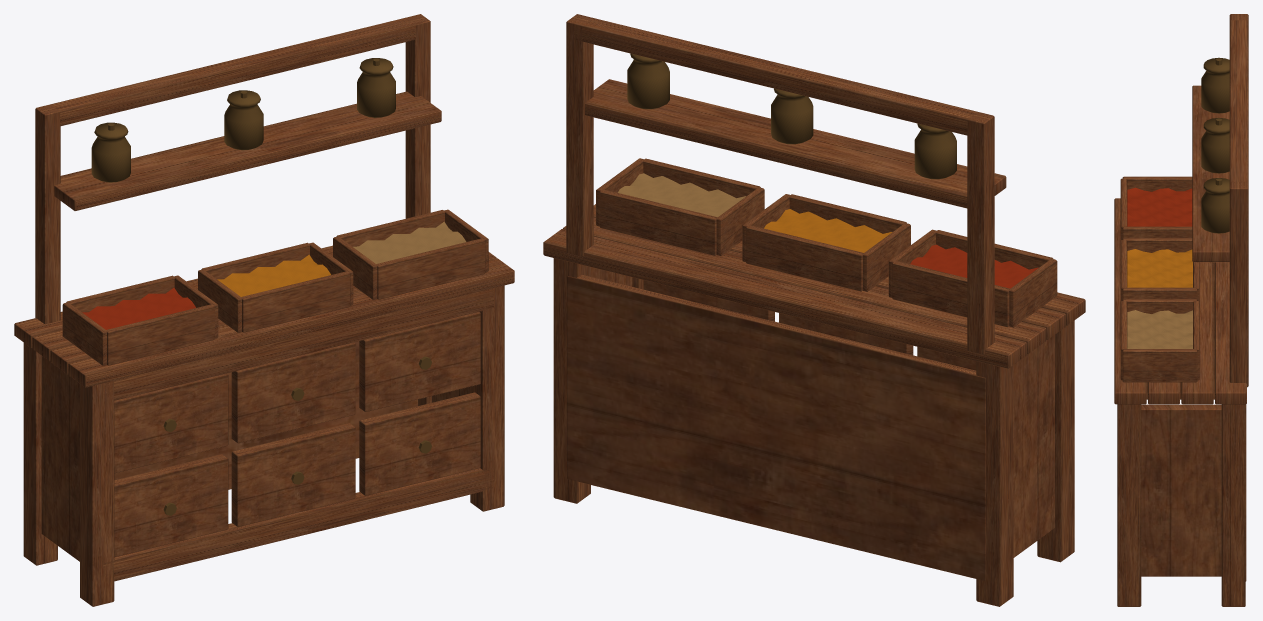
The model's file is spice-drawers.glb.
3 views of the same model, side by side, from view 1: azimuth 30°, elevation 25°; view 2: azimuth 150°, elevation 25°; view 3: azimuth 270°, elevation 25° (orthographic). The views are drawn at different scales.
Parts seen in each view (by area): view 1: spice-drawers; view 2: spice-drawers; view 3: spice-drawers.
Part boxes in pixels (bbox=[...]): spice-drawers: bbox=[14, 14, 514, 606]; spice-drawers: bbox=[543, 14, 1085, 606]; spice-drawers: bbox=[1114, 14, 1248, 606].
Size of the model in its own units: 1.72 by 1.7 by 0.5.
Materials: 1 (1 with a texture image).
